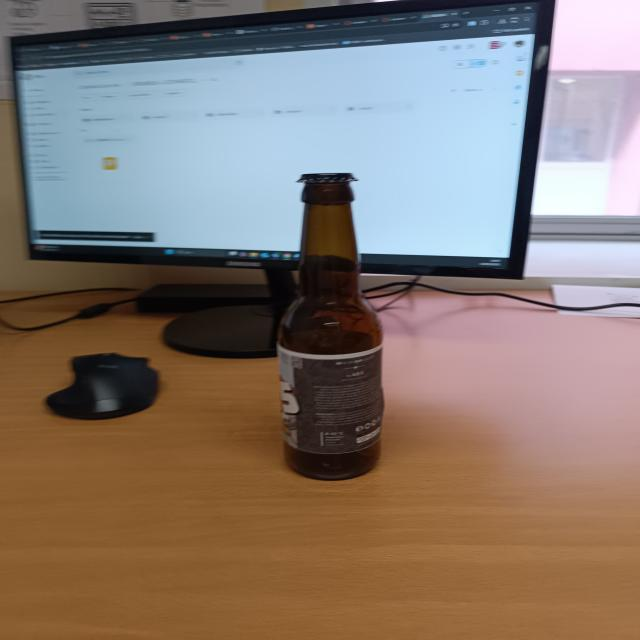Bottle: (276, 171, 385, 483)
Cap: (292, 170, 363, 187)
Label: (277, 350, 384, 452)
